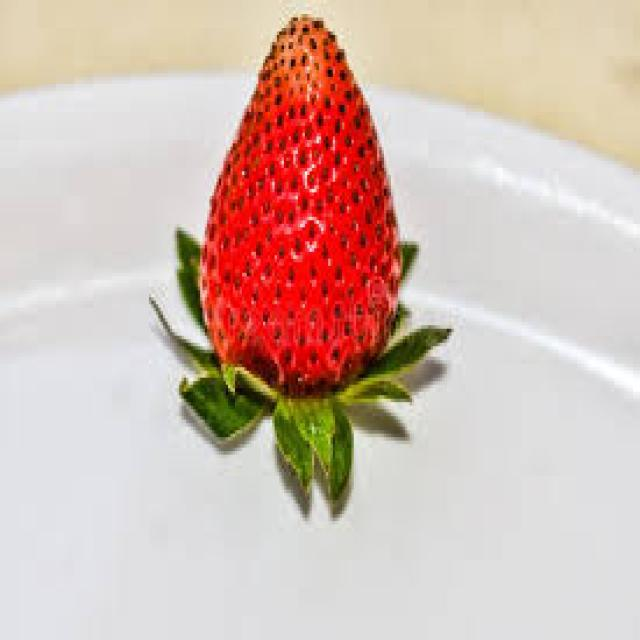strawberry: (187, 22, 420, 473)
